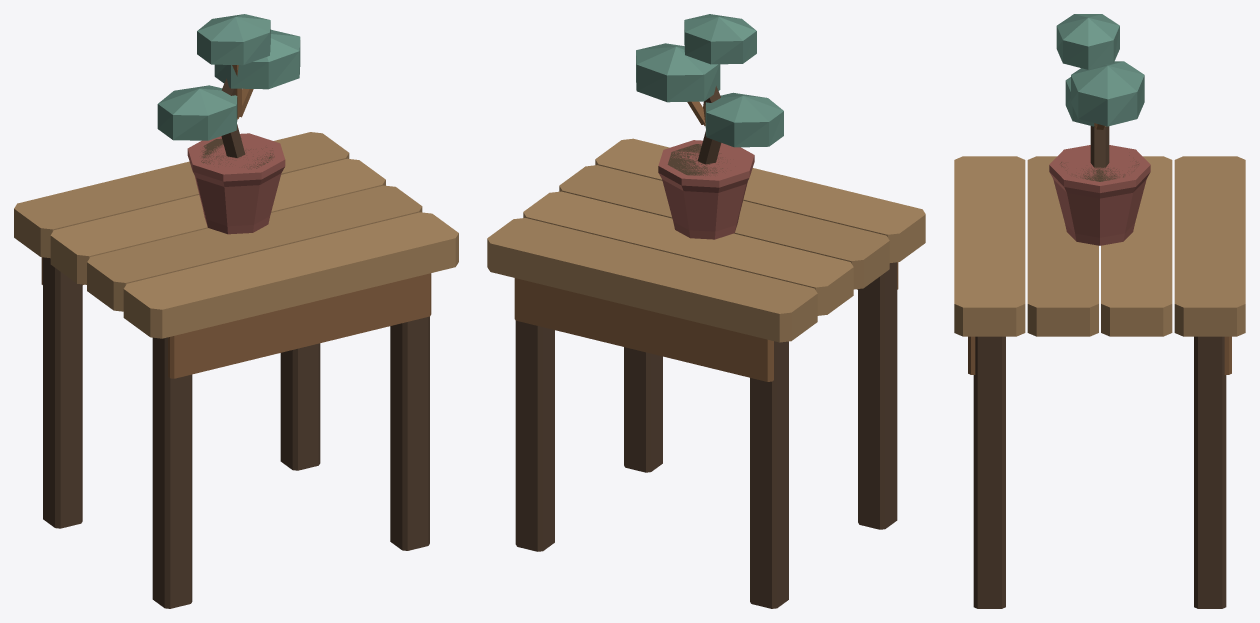
Rendered from table_bonsai.glb.
3 views of the same model, side by side, from view 1: azimuth 30°, elevation 25°; view 2: azimuth 150°, elevation 25°; view 3: azimuth 270°, elevation 25° (orthographic).
Visible parts, largest first — view 1: geometry; view 2: geometry; view 3: geometry.
Boxes of the visible parts, box(x1,y1,x2,y2) form: geometry: box(14, 14, 458, 608); geometry: box(487, 14, 925, 608); geometry: box(954, 14, 1245, 608).
Size of the model in its own units: 0.78 by 1.26 by 0.635.
